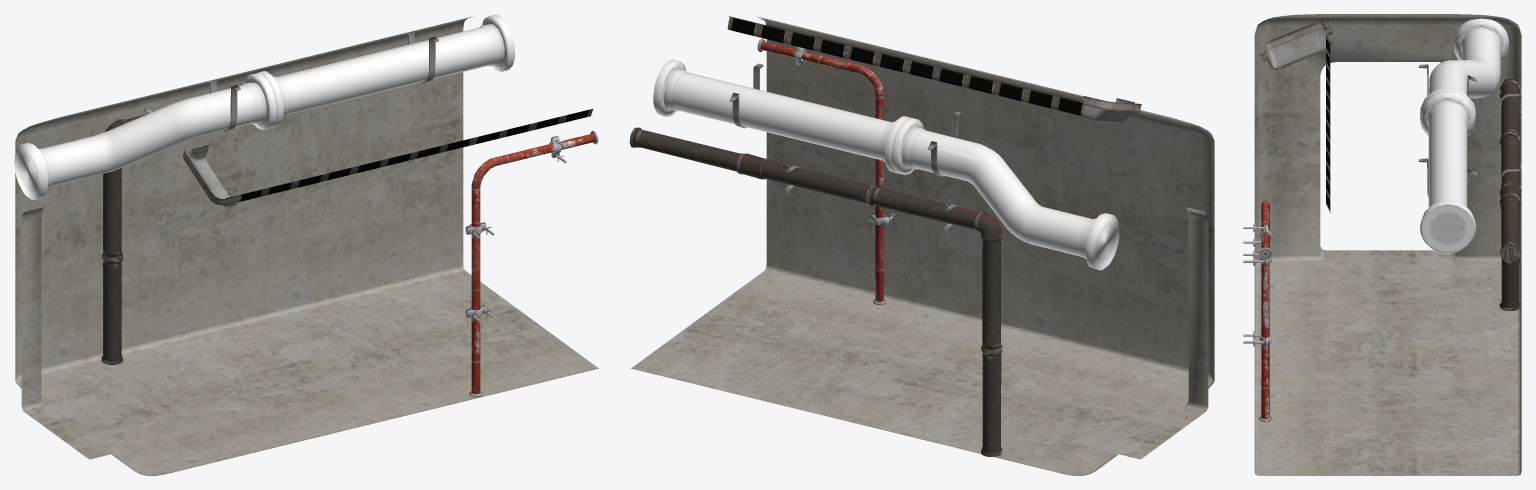
Rendered from nuclear_silo_tunnel_300x600_end.glb.
3 renders of one model, left to right at view 1: azimuth 30°, elevation 25°; view 2: azimuth 150°, elevation 25°; view 3: azimuth 270°, elevation 25°, orthographic. The views are drawn at different scales.
Visible parts, largest first — view 1: nuclear_silo_tunnel_300x600_end_LOD0; view 2: nuclear_silo_tunnel_300x600_end_LOD0; view 3: nuclear_silo_tunnel_300x600_end_LOD0.
Part boxes in pixels (x1,y1,x2,y2): nuclear_silo_tunnel_300x600_end_LOD0: [14, 14, 598, 475]; nuclear_silo_tunnel_300x600_end_LOD0: [629, 16, 1214, 475]; nuclear_silo_tunnel_300x600_end_LOD0: [1243, 14, 1521, 475].
Size of the model in its own units: 6 by 3.5 by 3.13.
Materials: 5 (5 with a texture image).
